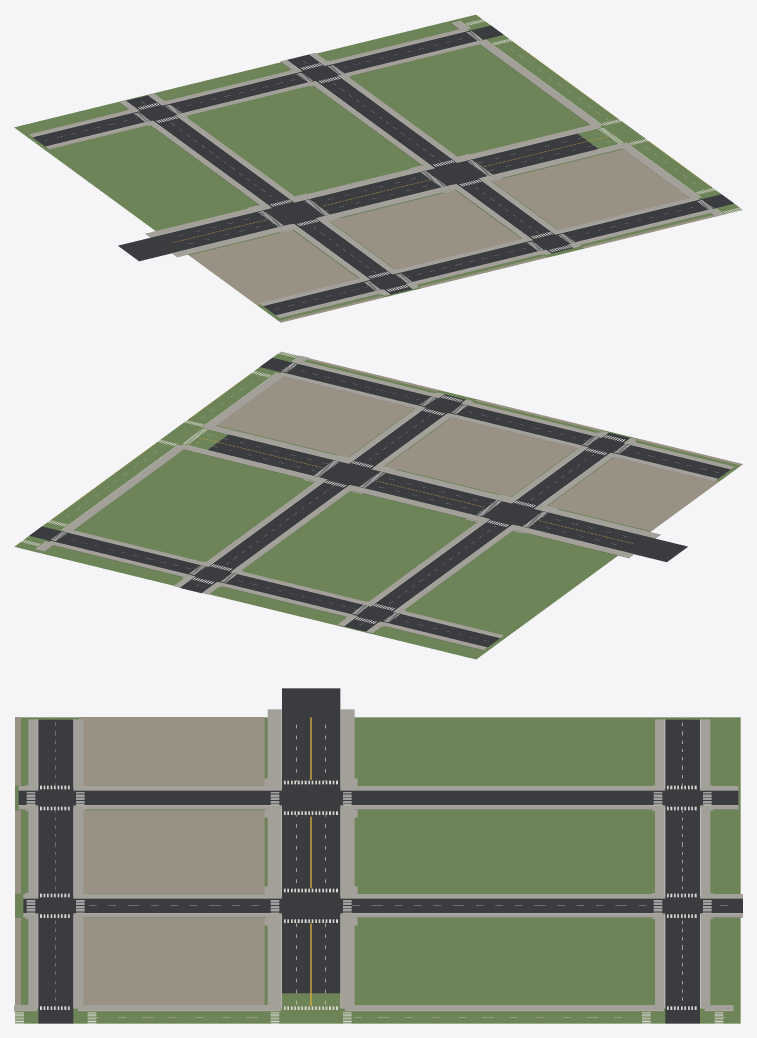
Rendered from Ground_3_5.fbx.
3 renders of one model, top to bottom at view 1: azimuth 30°, elevation 25°; view 2: azimuth 150°, elevation 25°; view 3: azimuth 270°, elevation 25°, orthographic. The views are drawn at different scales.
Visible parts, largest first — view 1: Ground_3_5; view 2: Ground_3_5; view 3: Ground_3_5.
Part boxes in pixels (bbox=[...]): Ground_3_5: bbox=[14, 14, 742, 322]; Ground_3_5: bbox=[14, 351, 742, 659]; Ground_3_5: bbox=[14, 688, 742, 1023].
Size of the model in its own units: 274 by 0.14 by 251.
